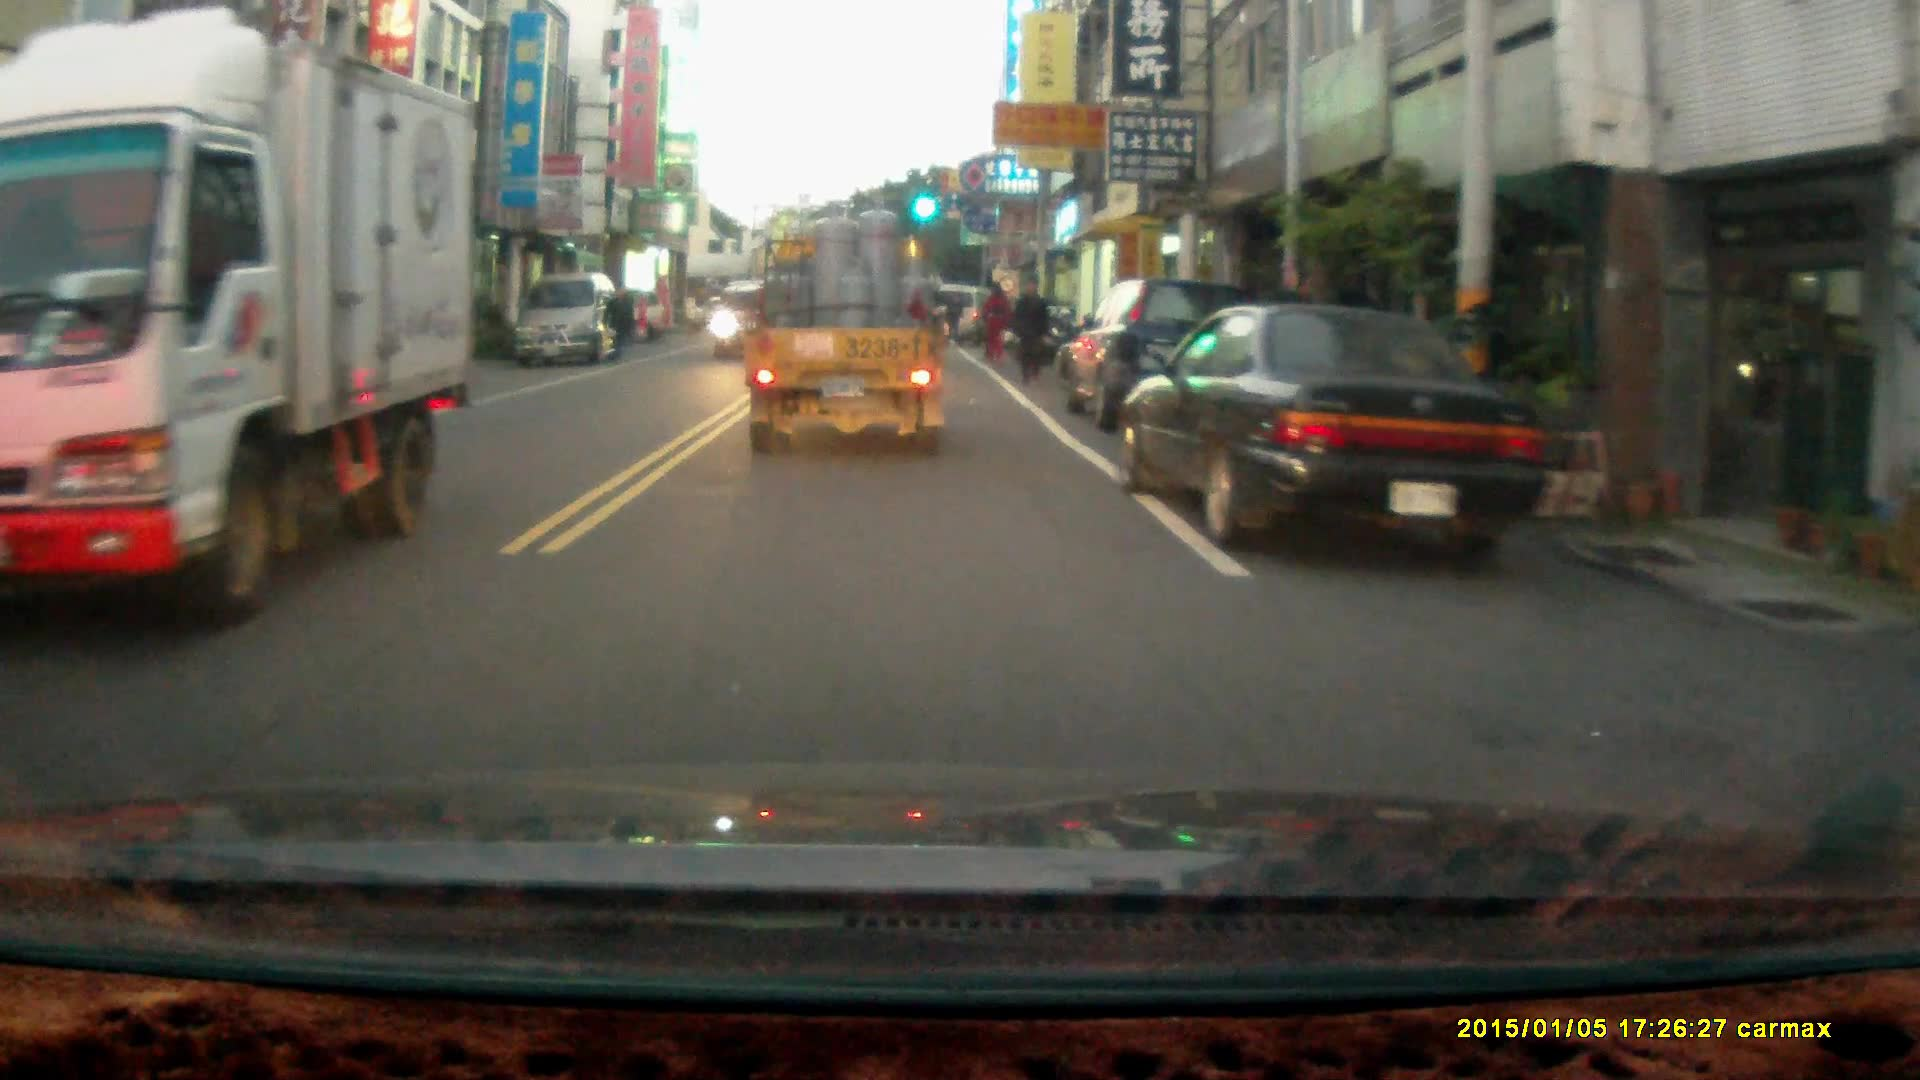pedestrian: (1009, 273, 1051, 386), (978, 280, 1014, 367), (604, 281, 636, 361), (942, 292, 964, 342)
vehicle: (1, 9, 485, 633), (1120, 306, 1550, 561), (741, 191, 955, 464), (1066, 278, 1271, 439), (515, 271, 625, 367), (705, 279, 804, 368)
